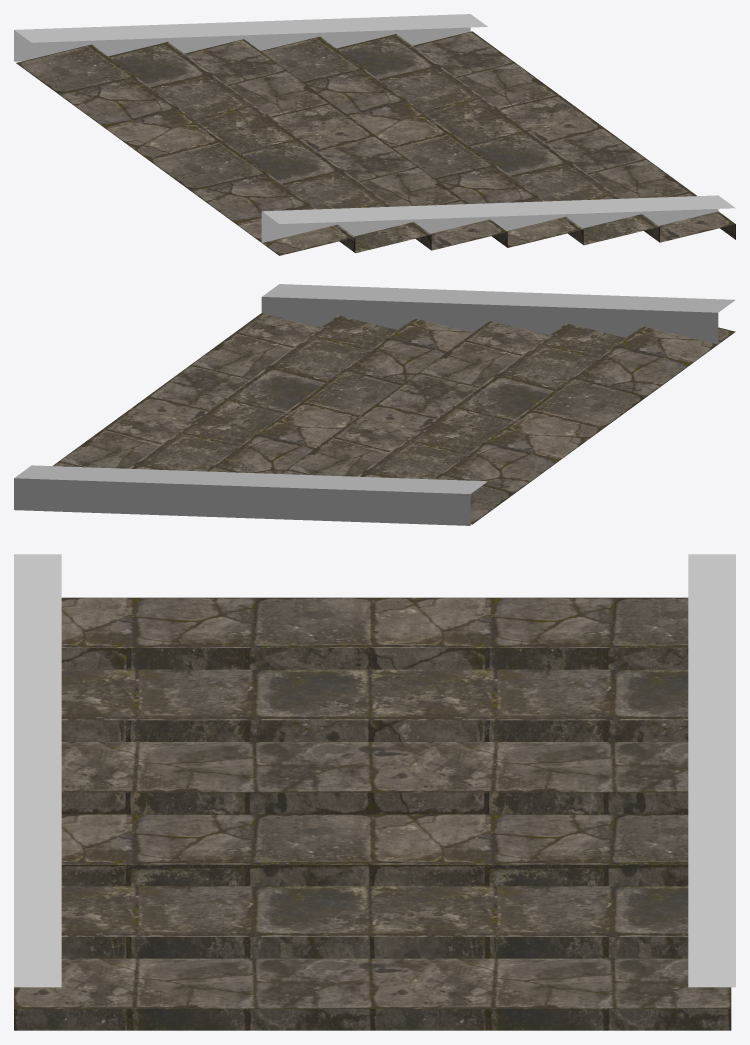
File: StairsRight.FBX
The picture shows the model from 3 angles, top to bottom: view 1: azimuth 30°, elevation 25°; view 2: azimuth 150°, elevation 25°; view 3: azimuth 270°, elevation 25°; orthographic projection. The views are drawn at different scales.
Parts seen in each view (by area): view 1: StairsRight; view 2: StairsRight; view 3: StairsRight.
Boxes of the visible parts, x1,y1,x2,y2 form: StairsRight: (14,14,735,255); StairsRight: (14,284,735,525); StairsRight: (14,554,735,1030).
Size of the model in its own units: 750 by 200 by 755.
